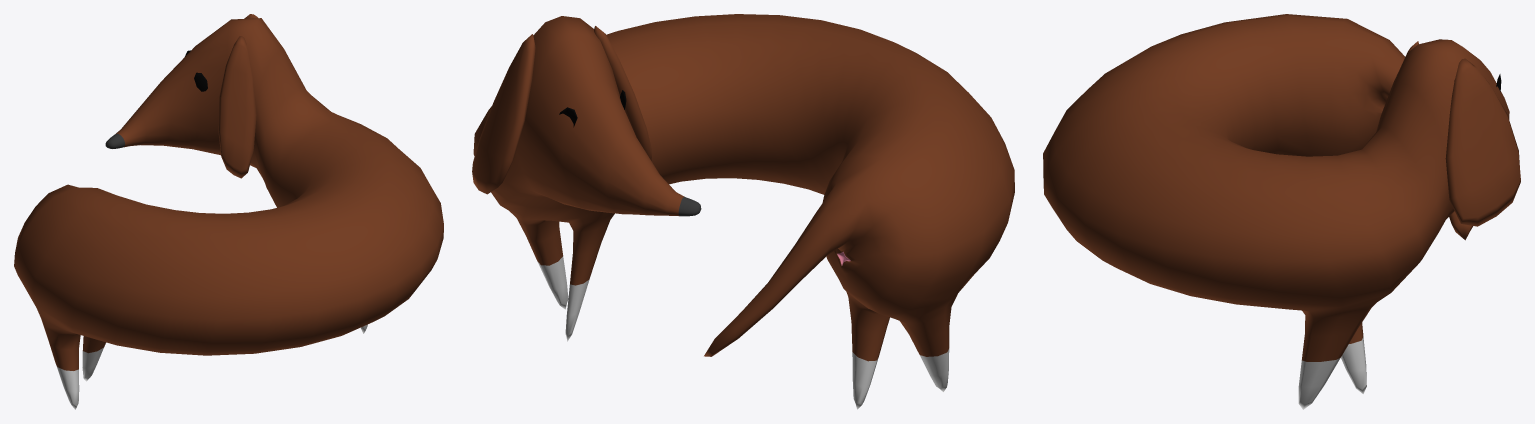
File: ween_medium_buttsniff.fbx
The picture shows the model from 3 angles, left to right: view 1: azimuth 30°, elevation 25°; view 2: azimuth 150°, elevation 25°; view 3: azimuth 270°, elevation 25°; orthographic projection. The views are drawn at different scales.
Parts seen in each view (by area): view 1: ween_medium_buttsniff; view 2: ween_medium_buttsniff; view 3: ween_medium_buttsniff.
Boxes of the visible parts, <box> form: ween_medium_buttsniff: <box>14,14,443,409</box>; ween_medium_buttsniff: <box>472,14,1014,409</box>; ween_medium_buttsniff: <box>1043,14,1520,409</box>.
Size of the model in its own units: 223 by 240 by 173.
